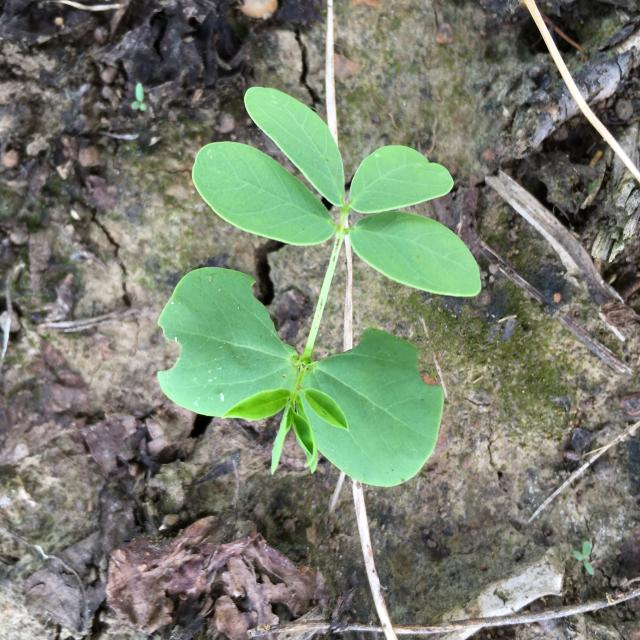Sicklepod: (158, 86, 482, 488)
